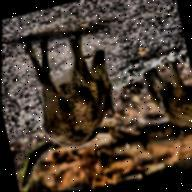boar: (5, 3, 154, 182), (135, 55, 192, 152)
